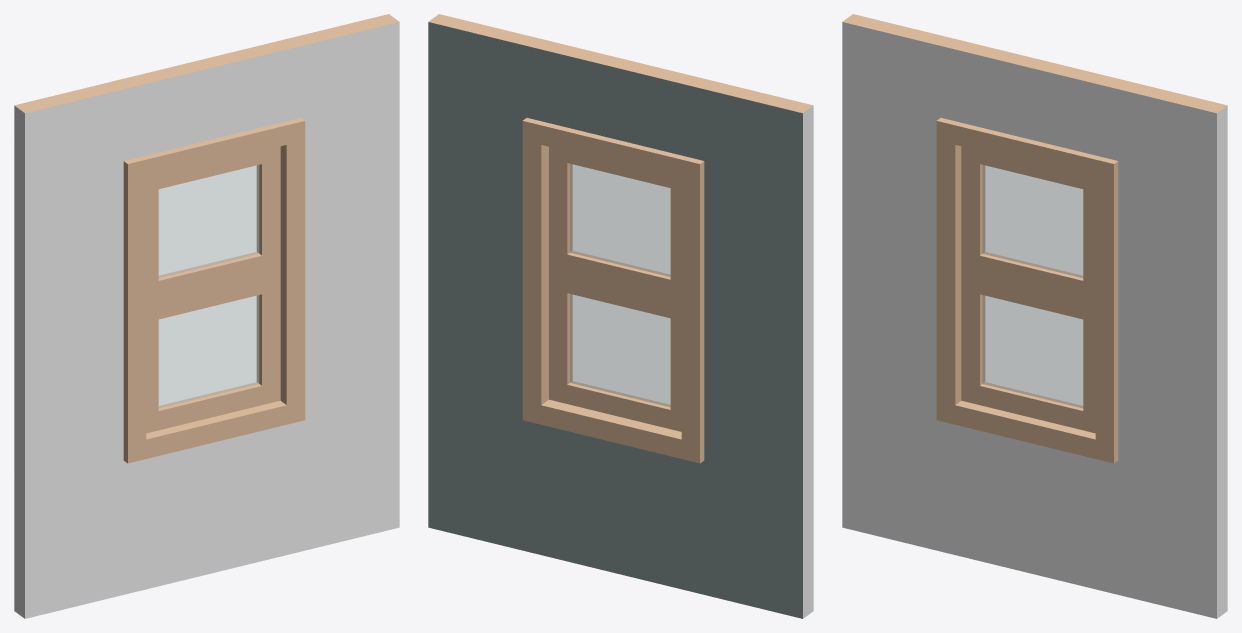
Rendered from wallWindowSlide.glb.
3 renders of one model, left to right at view 1: azimuth 30°, elevation 25°; view 2: azimuth 150°, elevation 25°; view 3: azimuth 330°, elevation 25°, orthographic.
Visible parts, largest first — view 1: wallWindowSlide, wallWindowSlide.001, wallWindowSlide.002; view 2: wallWindowSlide, wallWindowSlide.001, wallWindowSlide.002; view 3: wallWindowSlide, wallWindowSlide.001, wallWindowSlide.002.
Part boxes in pixels (x1=…): wallWindowSlide: x1=14, y1=14, x2=399, y2=618; wallWindowSlide.001: x1=146, y1=270, x2=280, y2=433; wallWindowSlide.002: x1=146, y1=146, x2=280, y2=302; wallWindowSlide: x1=428, y1=14, x2=813, y2=618; wallWindowSlide.001: x1=549, y1=269, x2=681, y2=431; wallWindowSlide.002: x1=549, y1=147, x2=681, y2=301; wallWindowSlide: x1=842, y1=14, x2=1227, y2=618; wallWindowSlide.001: x1=961, y1=270, x2=1095, y2=433; wallWindowSlide.002: x1=961, y1=146, x2=1095, y2=302.
Size of the model in its own units: 2.9 by 3.74 by 0.2584.
